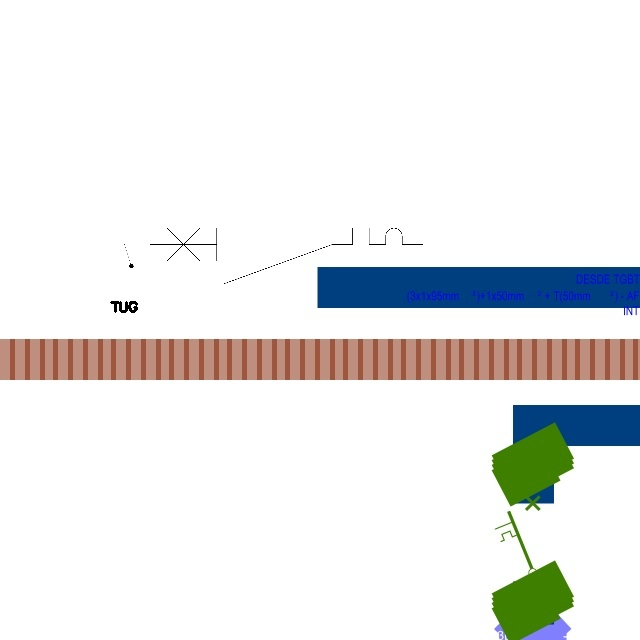interruptor_termomagnetico: (143, 221, 430, 291)
